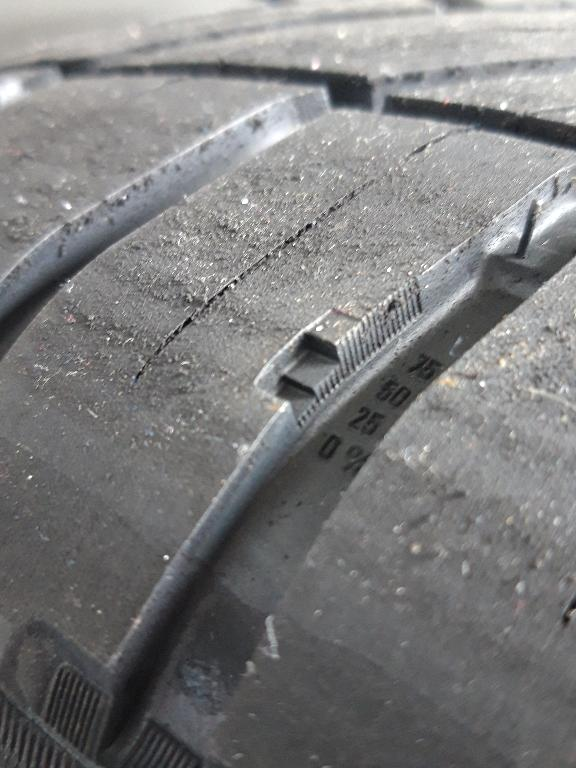temoin:50: (247, 299, 376, 439)
